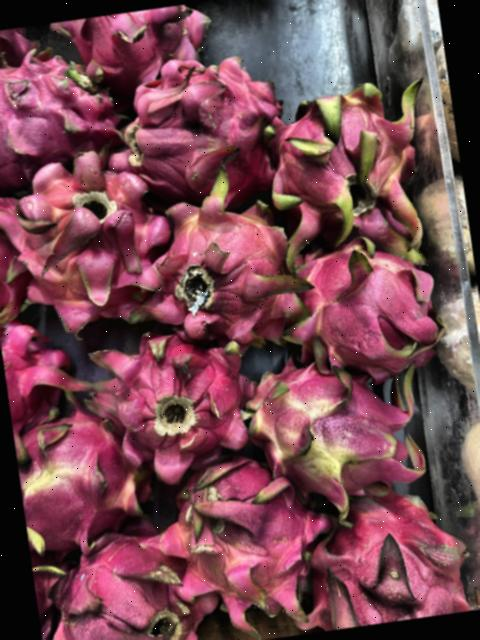buah-naga-belum-matang: (243, 348, 425, 508), (11, 394, 146, 546)
buah-naga-matang: (258, 66, 442, 262), (154, 432, 330, 631), (1, 140, 167, 334), (146, 176, 312, 368), (116, 40, 290, 206), (301, 476, 477, 632), (87, 318, 253, 478), (285, 223, 449, 384), (36, 518, 219, 640), (0, 42, 117, 186), (61, 2, 206, 82), (0, 318, 75, 427)
